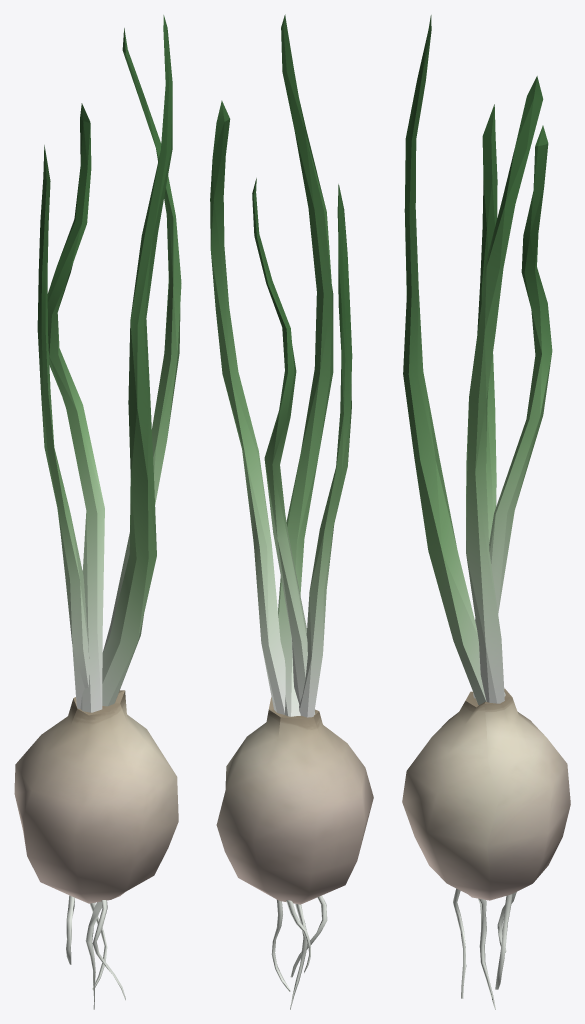
The model's file is tallGarlicBulb01.fbx.
The picture shows the model from 3 angles, left to right: view 1: azimuth 30°, elevation 25°; view 2: azimuth 150°, elevation 25°; view 3: azimuth 270°, elevation 25°; orthographic projection. The views are drawn at different scales.
Parts seen in each view (by area): view 1: garlicBulb02; view 2: garlicBulb02; view 3: garlicBulb02.
Part boxes in pixels (bbox=[...]): garlicBulb02: bbox=[14, 15, 181, 1009]; garlicBulb02: bbox=[210, 14, 373, 1009]; garlicBulb02: bbox=[402, 15, 570, 1009].
Bounding box in the file's own units: 2.22 × 13.7 × 2.07.
